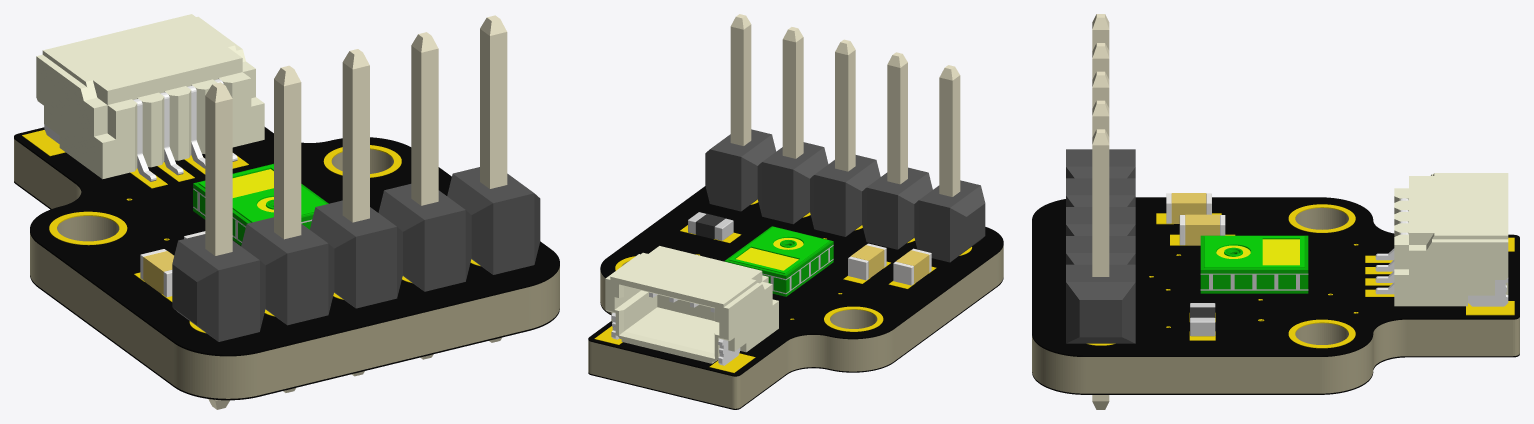
Rendered from unit_3D_ue0011_v_1_1_0_pdm_mp34dt05_microphone.glb.
3 renders of one model, left to right at view 1: azimuth 30°, elevation 25°; view 2: azimuth 150°, elevation 25°; view 3: azimuth 270°, elevation 25°, orthographic. The views are drawn at different scales.
Visible parts, largest first — view 1: Node29, Node41, Node25, Node31, Node28, Node13, Node30, Node36, Node38, Node35, Node33, Node32; view 2: Node29, Node41, Node31, Node25, Node28, Node13, Node36, Node35, Node33, Node32, Node38, Node30 (+3 smaller); view 3: Node41, Node25, Node31, Node29, Node28, Node13, Node35, Node36, Node33, Node30, Node38, Node39 (+2 smaller).
Part boxes in pixels (x1=…): Node29: x1=172, y1=167, x2=540, y2=341; Node41: x1=14, y1=127, x2=559, y2=400; Node25: x1=14, y1=139, x2=559, y2=398; Node31: x1=36, y1=14, x2=264, y2=179; Node28: x1=205, y1=15, x2=507, y2=409; Node13: x1=22, y1=130, x2=480, y2=333; Node30: x1=44, y1=79, x2=237, y2=181; Node36: x1=198, y1=164, x2=326, y2=222; Node38: x1=232, y1=169, x2=273, y2=212; Node35: x1=193, y1=163, x2=328, y2=245; Node33: x1=143, y1=251, x2=173, y2=294; Node32: x1=140, y1=231, x2=205, y2=297; Node29: x1=705, y1=129, x2=985, y2=262; Node41: x1=588, y1=186, x2=1003, y2=409; Node31: x1=605, y1=246, x2=778, y2=363; Node25: x1=588, y1=245, x2=1003, y2=408; Node28: x1=730, y1=14, x2=960, y2=196; Node13: x1=594, y1=199, x2=972, y2=372; Node36: x1=728, y1=227, x2=829, y2=274; Node35: x1=724, y1=226, x2=833, y2=296; Node33: x1=850, y1=245, x2=929, y2=283; Node32: x1=848, y1=243, x2=931, y2=285; Node38: x1=736, y1=238, x2=803, y2=270; Node30: x1=611, y1=292, x2=740, y2=365; Node41: x1=1032, y1=197, x2=1519, y2=394; Node25: x1=1032, y1=208, x2=1519, y2=393; Node31: x1=1394, y1=173, x2=1508, y2=306; Node29: x1=1066, y1=149, x2=1135, y2=343; Node28: x1=1092, y1=14, x2=1109, y2=409; Node13: x1=1086, y1=204, x2=1514, y2=348; Node35: x1=1200, y1=235, x2=1308, y2=293; Node36: x1=1204, y1=236, x2=1304, y2=268; Node33: x1=1171, y1=193, x2=1219, y2=245; Node30: x1=1375, y1=198, x2=1508, y2=306; Node38: x1=1216, y1=239, x2=1299, y2=265; Node39: x1=1201, y1=273, x2=1307, y2=290.
Size of the model in its own units: 13.97 by 11.38 by 18.16.
